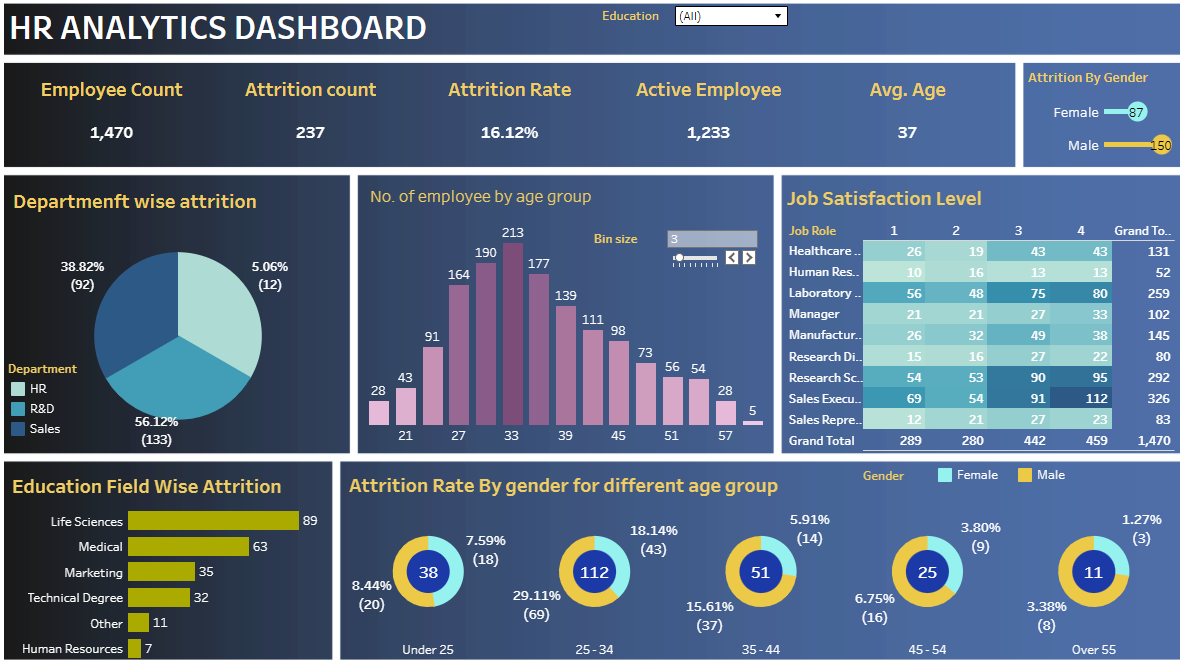

The dashboard page shown, as its layout file describes it:
{"tool":"tableau","page":{"name":"HR Analytics Dashboard","canvas":[1200,700],"ordinal":0},"visuals":[{"type":"image","param":"Image/hr dashboard.png","box":[8,8,1184,684]},{"type":"text","box":[17.5,22.4,549.9,43.7]},{"type":"filter","title":"Departmenft wise attrition","param":"[federated.1i7ylyq0z2ex841ee2qcb1qn2z7a].[none:Education:nk]","box":[610.5,23.6,186.4,37.8]},{"type":"worksheet","title":"Attrition By Gender","mark":"Automatic","rows":["Gender"],"cols":["Calculation_0876337527885825","Calculation_0876337527885825"],"box":[1032.2,79.1,150.3,100.3]},{"type":"worksheet","title":"kpi","mark":"Automatic","box":[19.8,87.4,995,85]},{"type":"worksheet","title":"No. of employee by age group","mark":"Automatic","rows":["Employee Count"],"cols":["Age (bin)"],"box":[374,196,399.6,269.1]},{"type":"worksheet","title":"Job Satisfaction Level","mark":"Square","rows":["Job Role"],"cols":["Job Satisfaction"],"box":[791.1,196,391.5,273.9]},{"type":"worksheet","title":"Departmenft wise attrition","mark":"Pie","box":[17.5,199.5,337.9,268]},{"type":"parameter","param":"[Parameters].[Parameter 0876337560535045]","box":[602.3,246.7,164.3,41.3]},{"type":"legend","title":"Departmenft wise attrition","param":"[federated.1i7ylyq0z2ex841ee2qcb1qn2z7a].[none:Department:nk]","box":[16.3,377.7,90.9,92.1]},{"type":"worksheet","title":"Attrition Rate By gender for different age group","mark":"Pie","rows":["Calculation_0608056901214209","Calculation_0608056901259267"],"cols":["CF_age band"],"box":[353,482.8,831.8,193.6]},{"type":"legend","title":"Attrition Rate By gender for different age group","param":"[federated.1i7ylyq0z2ex841ee2qcb1qn2z7a].[none:Gender:nk]","box":[871.5,482.8,298.2,21.2]},{"type":"worksheet","title":"Education Field Wise Attrition","mark":"Automatic","rows":["Education Field"],"cols":["Calculation_0876337527885825"],"box":[16.3,484,323.9,194.8]}]}

Visuals, with their boxes in screenshot pixels (x1, y1, x2, y2):
image: region(0, 0, 1180, 663)
text: region(5, 0, 558, 39)
"Departmenft wise attrition" filter: region(602, 0, 789, 34)
"Attrition By Gender" worksheet: region(1026, 52, 1177, 153)
"kpi" worksheet: region(8, 60, 1009, 146)
"No. of employee by age group" worksheet: region(364, 169, 766, 440)
"Job Satisfaction Level" worksheet (Square marks): region(784, 169, 1177, 445)
"Departmenft wise attrition" worksheet (Pie marks): region(5, 173, 345, 443)
parameter: region(594, 220, 759, 262)
"Departmenft wise attrition" legend: region(4, 352, 96, 445)
"Attrition Rate By gender for different age group" worksheet (Pie marks): region(343, 458, 1180, 653)
"Attrition Rate By gender for different age group" legend: region(864, 458, 1164, 479)
"Education Field Wise Attrition" worksheet: region(4, 459, 330, 655)
